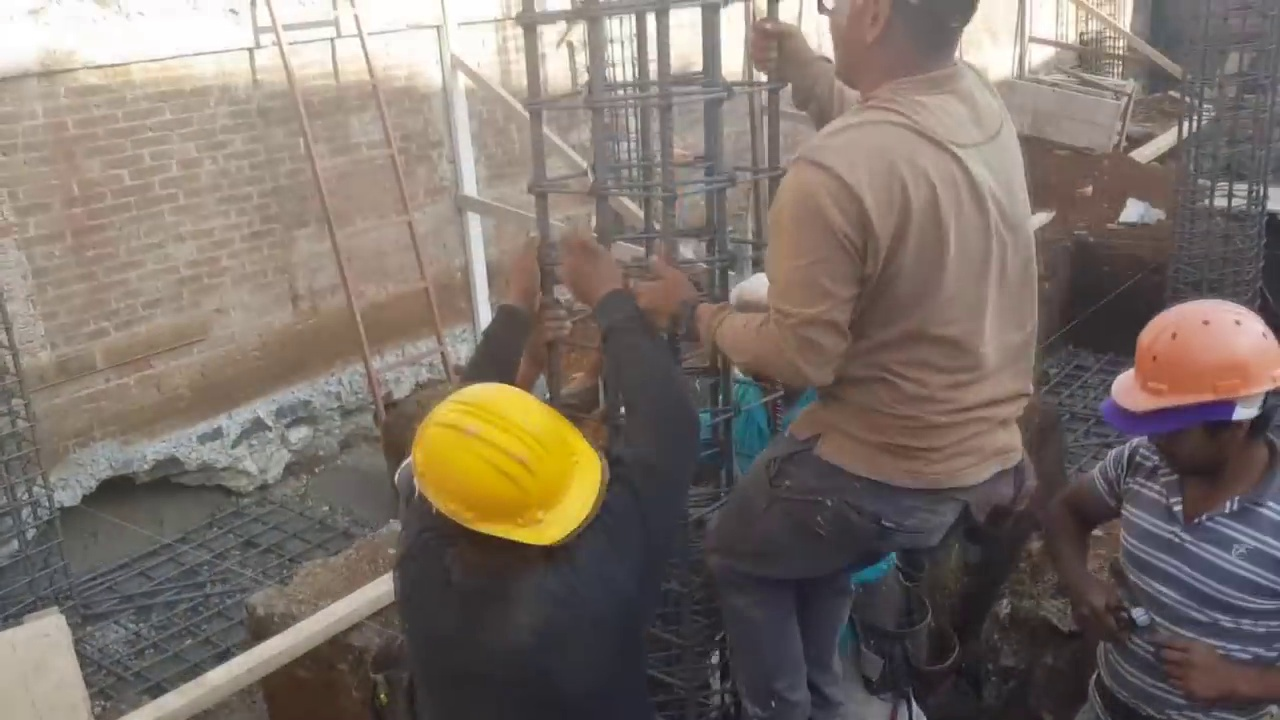helmet: (408, 379, 594, 565), (1117, 302, 1280, 438)
helmet-off: (831, 0, 980, 107)
helmet-on: (400, 374, 618, 621), (1111, 296, 1279, 528)
person: (686, 0, 1040, 718), (365, 234, 666, 719), (1032, 297, 1280, 720), (595, 219, 698, 650)
